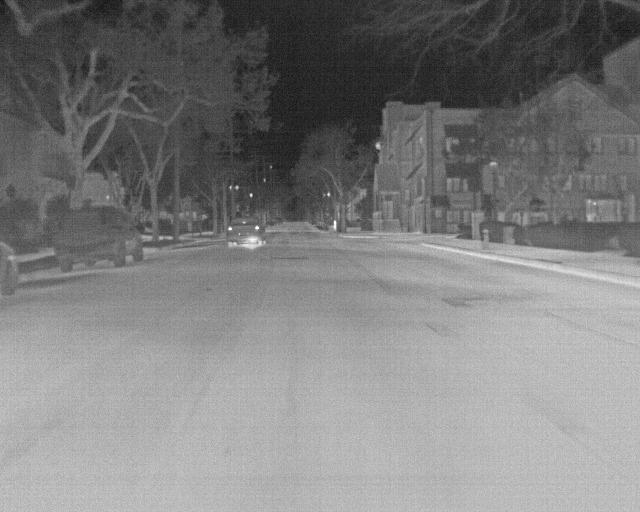car: (56, 206, 146, 272), (226, 216, 268, 250), (1, 241, 20, 293)
